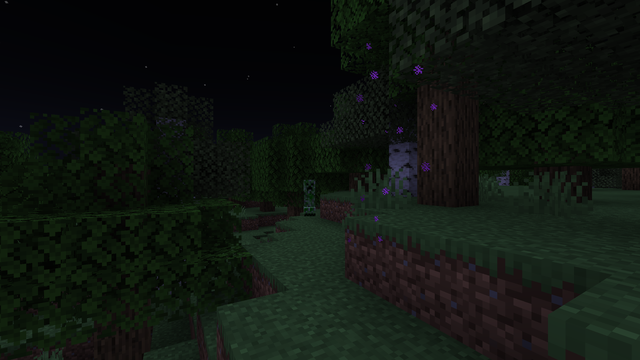creepers: (300, 178, 317, 216)
